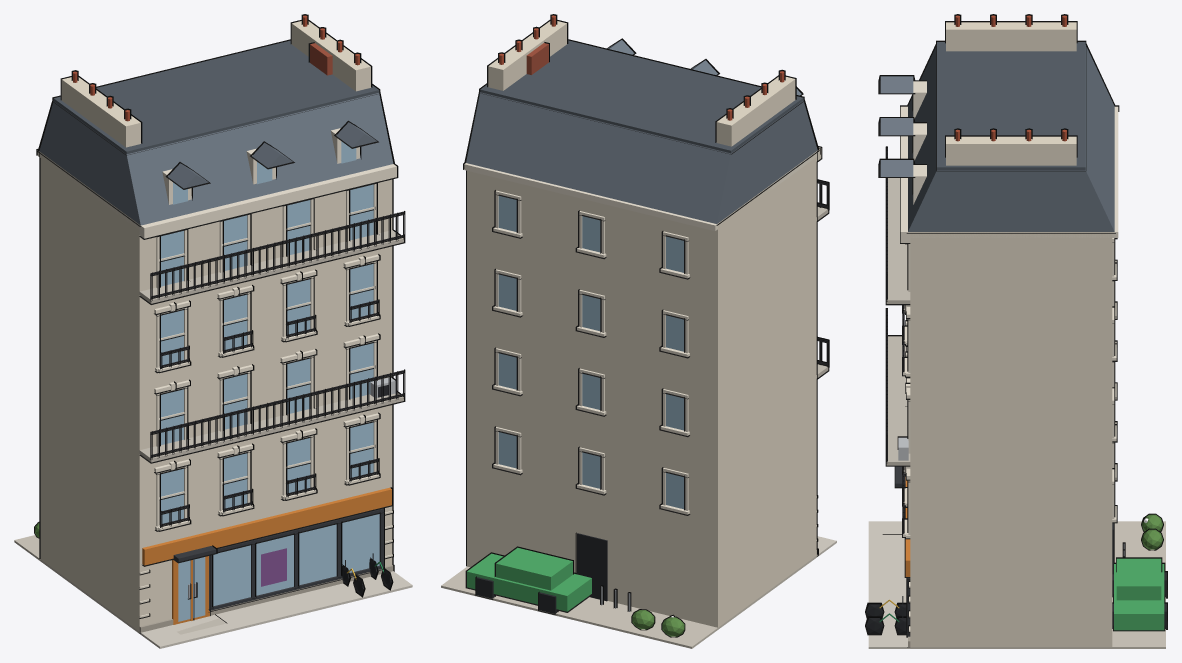
The model's file is Blok_duz_5k_1.fbx.
3 renders of one model, left to right at view 1: azimuth 30°, elevation 25°; view 2: azimuth 150°, elevation 25°; view 3: azimuth 270°, elevation 25°, orthographic. The views are drawn at different scales.
Parts seen in each view (by area): view 1: Blok_duz_5k_1; view 2: Blok_duz_5k_1; view 3: Blok_duz_5k_1.
Boxes of the visible parts, x1,y1,x2,y2 form: Blok_duz_5k_1: [14, 14, 412, 648]; Blok_duz_5k_1: [441, 14, 836, 648]; Blok_duz_5k_1: [865, 14, 1167, 648].
Size of the model in its own units: 10.1 by 19.13 by 10.19.
